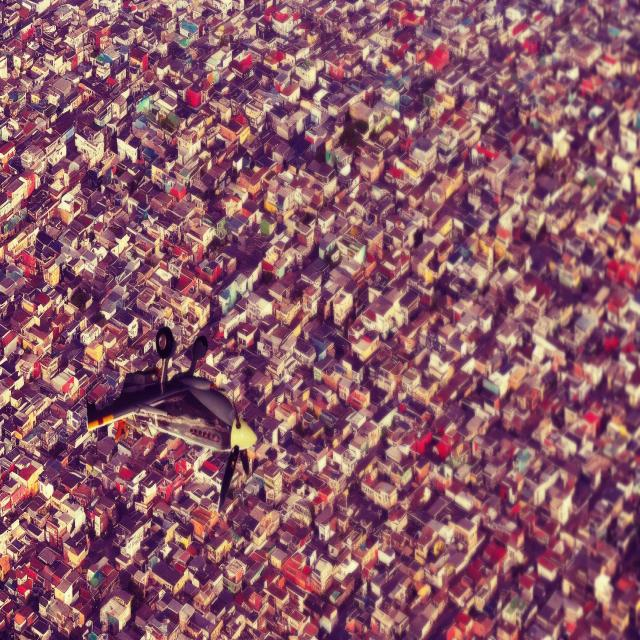airplane: (85, 325, 258, 514)
